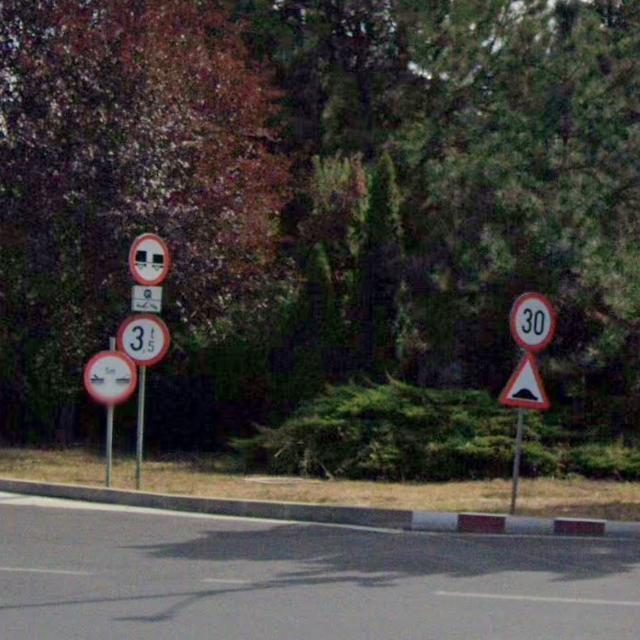forb_speed_over_30: (510, 294, 556, 352)
